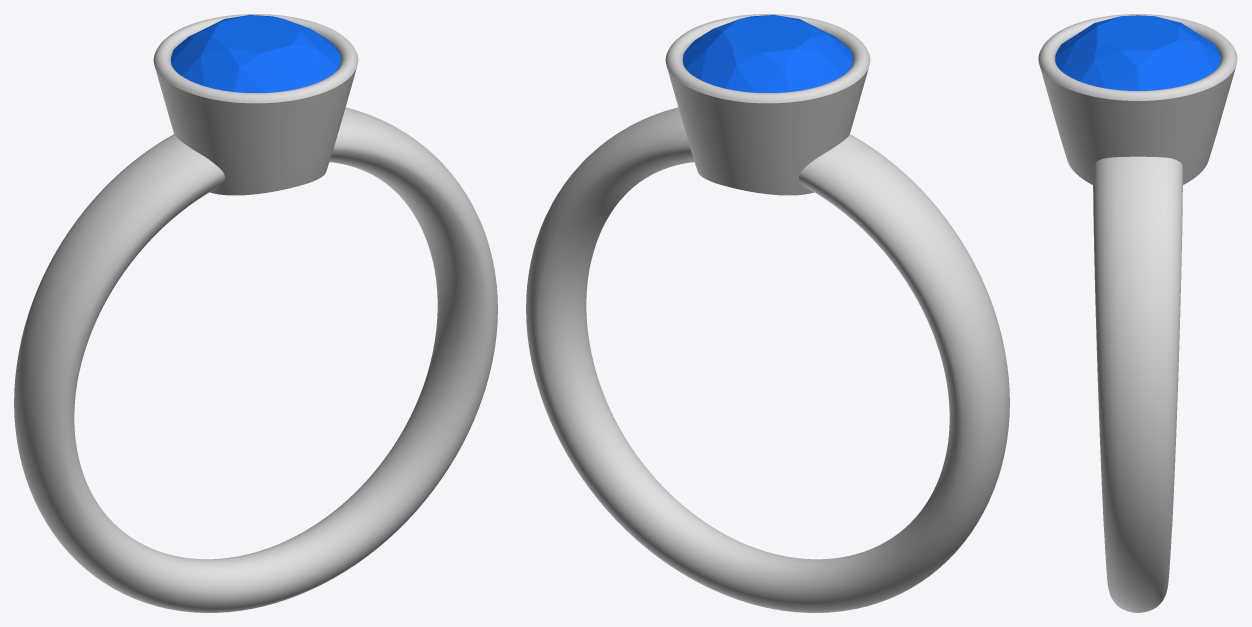
Rendered from bluesapphire-round-platinum-bezelset-taperedband-nosidestones.glb.
3 views of the same model, side by side, from view 1: azimuth 30°, elevation 25°; view 2: azimuth 150°, elevation 25°; view 3: azimuth 270°, elevation 25° (orthographic). The views are drawn at different scales.
Parts seen in each view (by area): view 1: metal, stone; view 2: metal, stone; view 3: metal, stone.
Part boxes in pixels (x1,y1,x2,y2): metal: (14,14,497,612); stone: (171,15,340,92); metal: (526,14,1009,612); stone: (683,15,852,92); metal: (1038,14,1237,612); stone: (1055,15,1220,90).
Size of the model in its own units: 20.5 by 23.81 by 7.74.
